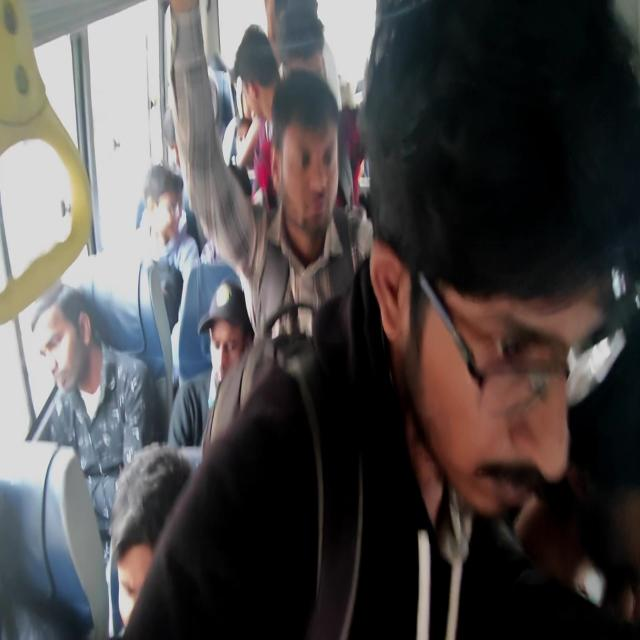person: (377, 36, 586, 534), (112, 473, 217, 640), (204, 270, 266, 442), (277, 98, 332, 240), (32, 300, 99, 397), (234, 39, 288, 124), (180, 35, 220, 128), (274, 9, 320, 82), (159, 104, 198, 183), (234, 126, 266, 222), (141, 180, 179, 248)
